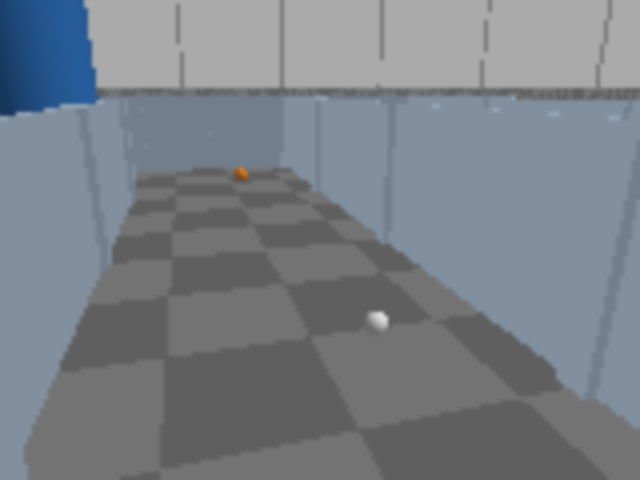puck: (363, 306, 389, 340), (232, 168, 250, 183)
